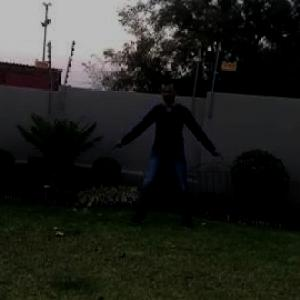land: (118, 84, 226, 226)
